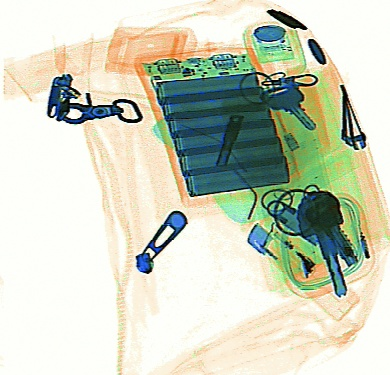lighter: (245, 215, 361, 322)
powerbank: (132, 43, 298, 207)
